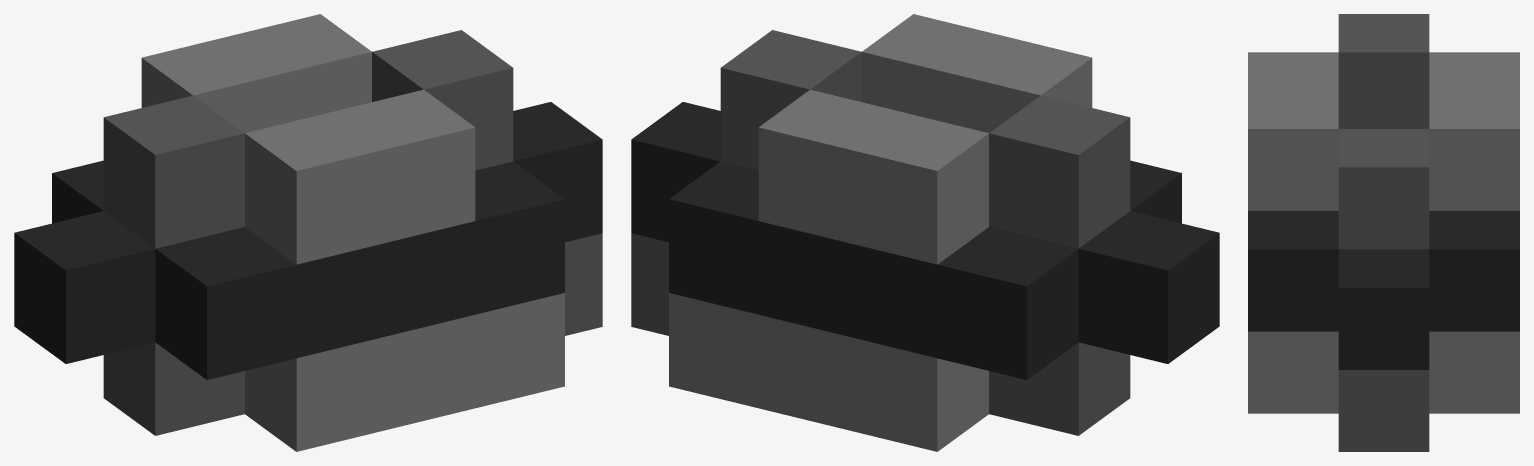
File: Chain.obj
The picture shows the model from 3 angles, left to right: view 1: azimuth 30°, elevation 25°; view 2: azimuth 150°, elevation 25°; view 3: azimuth 270°, elevation 25°; orthographic projection. The views are drawn at different scales.
Parts seen in each view (by area): view 1: Chain; view 2: Chain; view 3: Chain.
Boxes of the visible parts, x1,y1,x2,y2 form: Chain: (14,14,602,451); Chain: (631,14,1219,451); Chain: (1248,14,1519,451).
Size of the model in its own units: 6 by 3 by 3.
1 material, 1 textured.
